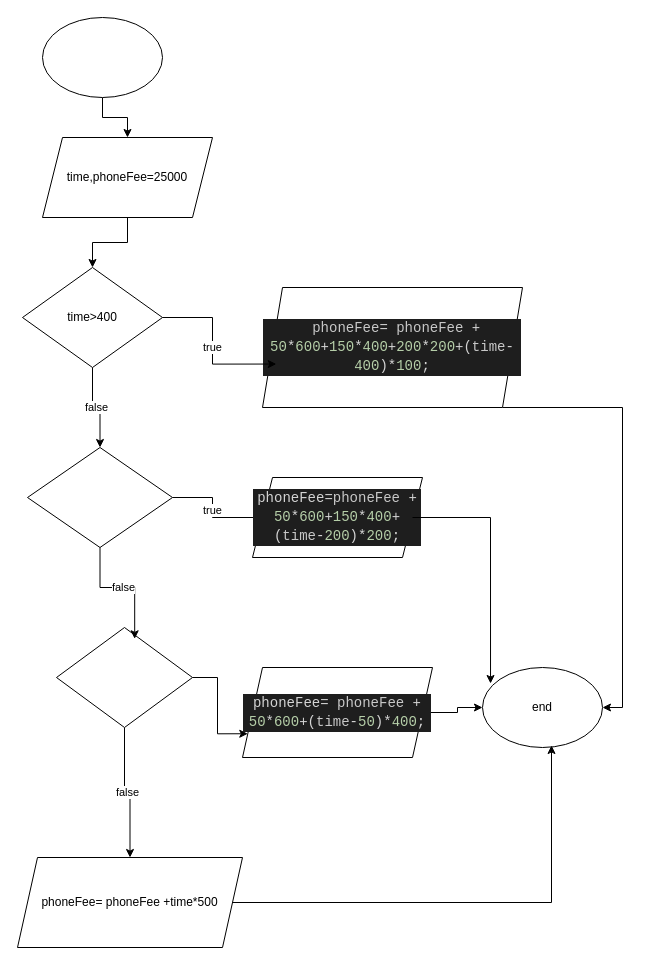
Some shapes in this 648 by 965 pixel diagram are drawn without their labels. Here are the shapes that lost their labels. From the top down, the centre of each, then its label:
At point (102, 57): "start".
At point (99, 497): "time>200".
At point (124, 677): "time>50".
